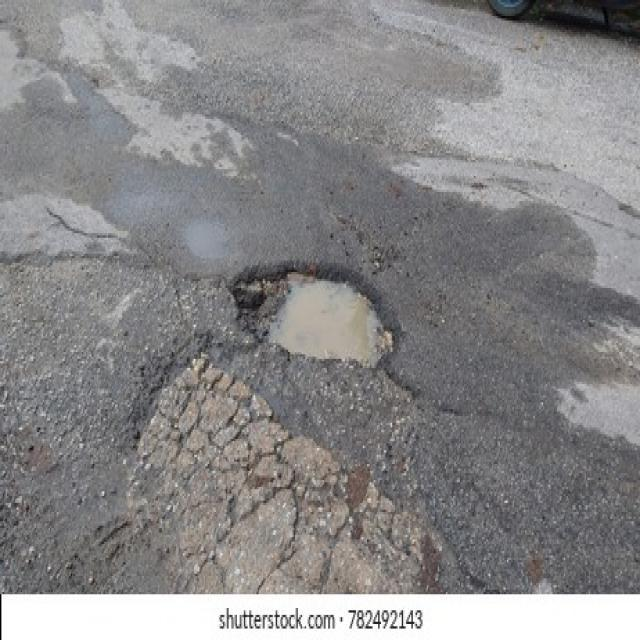Pothole: (230, 260, 398, 370)
